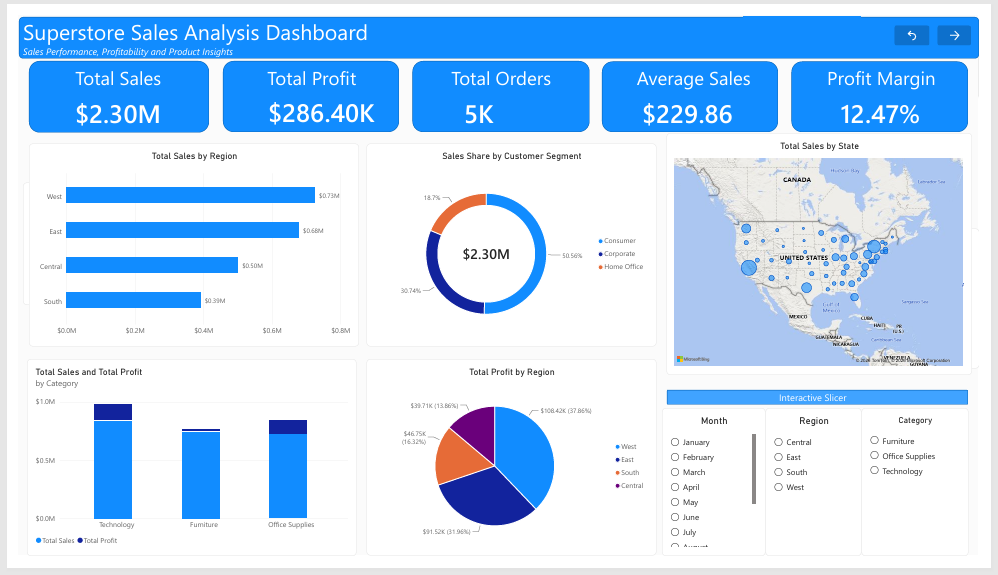

Layout of this report page (visuals, bound fields, positions):
{"tool":"powerbi","page":{"name":"Page 1","canvas":[1920,1080],"ordinal":0},"visuals":[{"type":"clusteredBarChart","title":"Top 10 Products by Sales","fields":{"Category":["Superstore_Sales.Product Name"],"Y":["Superstore_Sales.Total Sales"]},"box":[7.5,332.5,572.5,245],"z":0},{"type":"clusteredBarChart","title":"Total Sales by Region","fields":{"Category":["Superstore_Sales.Region"],"Y":["Superstore_Sales.Total Sales"]},"box":[20.5,254.5,659.1,406.8],"z":1000},{"type":"columnChart","title":"Total Sales by Category","fields":{"Category":["Superstore_Sales.Category"],"Y":["Superstore_Sales.Total Sales"]},"box":[1309.1,425,612,280],"z":2000},{"type":"donutChart","title":"Sales Share by Customer Segment","fields":{"Category":["Superstore_Sales.Segment"],"Y":["Superstore_Sales.Total Sales"]},"box":[695.5,254.5,579.5,406.8],"z":4000},{"type":"map","title":"Total Sales by State","fields":{"Category":["Superstore_Sales.State"],"Size":["Superstore_Sales.Total Sales"]},"box":[1295,234.1,611.4,484.1],"z":5000},{"type":"advancedSlicerVisual","fields":{"Values":["Superstore_Sales.Order Date.Variation.Date Hierarchy.Month"]},"box":[1286.4,784.1,206.8,295.5],"z":6000},{"type":"shape","box":[0,0,1920.5,72.7],"z":7000},{"type":"textbox","box":[15.9,0,1870.5,72.7],"z":8000},{"type":"shape","box":[20.5,90,359.1,143.2],"z":9000},{"type":"cardVisual","fields":{"Data":["Superstore_Sales.Total Sales"]},"box":[56.8,154.5,284.1,79.5],"z":10000},{"type":"textbox","box":[54.5,97.7,287.5,62.5],"z":11000},{"type":"shape","box":[404.5,91.1,352.3,140.9],"z":12000},{"type":"shape","box":[781.8,91.1,352.3,140.9],"z":13000},{"type":"shape","box":[1165.9,91.1,352.3,140.9],"z":14000},{"type":"shape","box":[1545.5,91.1,352.3,140.9],"z":15000},{"type":"columnChart","fields":{"Category":["Superstore_Sales.Category"],"Y":["Superstore_Sales.Total Sales"]},"box":[15.9,686.4,659.1,393.2],"z":16000},{"type":"pieChart","title":"Total Profit by Region","fields":{"Category":["Superstore_Sales.Region"],"Y":["Superstore_Sales.Total Profit"]},"box":[695,686,580,393],"z":17000},{"type":"cardVisual","fields":{"Data":["Superstore_Sales.Total Profit"]},"box":[481.8,150,275,81.8],"z":18000},{"type":"textbox","box":[441.8,98.6,287.5,62.5],"z":19000},{"type":"cardVisual","fields":{"Data":["Superstore_Sales.Total Orders"]},"box":[875,154.5,172.7,79.5],"z":20000},{"type":"textbox","box":[809.1,93.2,287.5,62.5],"z":21000},{"type":"cardVisual","fields":{"Data":["Superstore_Sales.Average Sales"]},"box":[1229.5,152.3,240.9,81.8],"z":22000},{"type":"textbox","box":[1205.5,91.8,287.5,62.5],"z":23000},{"type":"cardVisual","fields":{"Data":["Superstore_Sales.Profit Margin"]},"box":[1626.8,154.1,207.5,80],"z":24000},{"type":"textbox","box":[1579.1,92.7,287.5,62.5],"z":25000},{"type":"advancedSlicerVisual","fields":{"Values":["Superstore_Sales.Region"]},"box":[1493.2,784.1,175,295.5],"z":26000},{"type":"advancedSlicerVisual","fields":{"Values":["Superstore_Sales.Category"]},"box":[1668.2,784.1,229.5,295.5],"z":27000},{"type":"shape","box":[1296,747.7,602.3,29],"z":28000},{"type":"textbox","box":[1324.7,749.5,525,27.3],"z":29000}]}

Visuals, with their boxes in screenshot pixels (x1, y1, x2, y2), scaled from the page's 1920x1080 canvas onto the 998x575 screenshot:
"Top 10 Products by Sales" clusteredBarChart: {"left": 4, "top": 177, "right": 301, "bottom": 307}
"Total Sales by Region" clusteredBarChart: {"left": 11, "top": 135, "right": 353, "bottom": 352}
"Total Sales by Category" columnChart: {"left": 680, "top": 226, "right": 997, "bottom": 375}
"Sales Share by Customer Segment" donutChart: {"left": 362, "top": 135, "right": 663, "bottom": 352}
"Total Sales by State" map: {"left": 673, "top": 125, "right": 991, "bottom": 382}
advancedSlicerVisual - Superstore_Sales.Order Date.Variation.Date Hierarchy.Month: {"left": 669, "top": 417, "right": 776, "bottom": 574}
shape: {"left": 0, "top": 0, "right": 997, "bottom": 39}
textbox: {"left": 8, "top": 0, "right": 981, "bottom": 39}
shape: {"left": 11, "top": 48, "right": 197, "bottom": 124}
cardVisual - Superstore_Sales.Total Sales: {"left": 30, "top": 82, "right": 177, "bottom": 125}
textbox: {"left": 28, "top": 52, "right": 178, "bottom": 85}
shape: {"left": 210, "top": 49, "right": 393, "bottom": 124}
shape: {"left": 406, "top": 49, "right": 589, "bottom": 124}
shape: {"left": 606, "top": 49, "right": 789, "bottom": 124}
shape: {"left": 803, "top": 49, "right": 986, "bottom": 124}
columnChart - Superstore_Sales.Category x Superstore_Sales.Total Sales: {"left": 8, "top": 365, "right": 351, "bottom": 574}
"Total Profit by Region" pieChart: {"left": 361, "top": 365, "right": 663, "bottom": 574}
cardVisual - Superstore_Sales.Total Profit: {"left": 250, "top": 80, "right": 393, "bottom": 123}
textbox: {"left": 230, "top": 52, "right": 379, "bottom": 86}
cardVisual - Superstore_Sales.Total Orders: {"left": 455, "top": 82, "right": 545, "bottom": 125}
textbox: {"left": 421, "top": 50, "right": 570, "bottom": 83}
cardVisual - Superstore_Sales.Average Sales: {"left": 639, "top": 81, "right": 764, "bottom": 125}
textbox: {"left": 627, "top": 49, "right": 776, "bottom": 82}
cardVisual - Superstore_Sales.Profit Margin: {"left": 846, "top": 82, "right": 953, "bottom": 125}
textbox: {"left": 821, "top": 49, "right": 970, "bottom": 83}
advancedSlicerVisual - Superstore_Sales.Region: {"left": 776, "top": 417, "right": 867, "bottom": 574}
advancedSlicerVisual - Superstore_Sales.Category: {"left": 867, "top": 417, "right": 986, "bottom": 574}
shape: {"left": 674, "top": 398, "right": 987, "bottom": 414}
textbox: {"left": 689, "top": 399, "right": 961, "bottom": 414}
